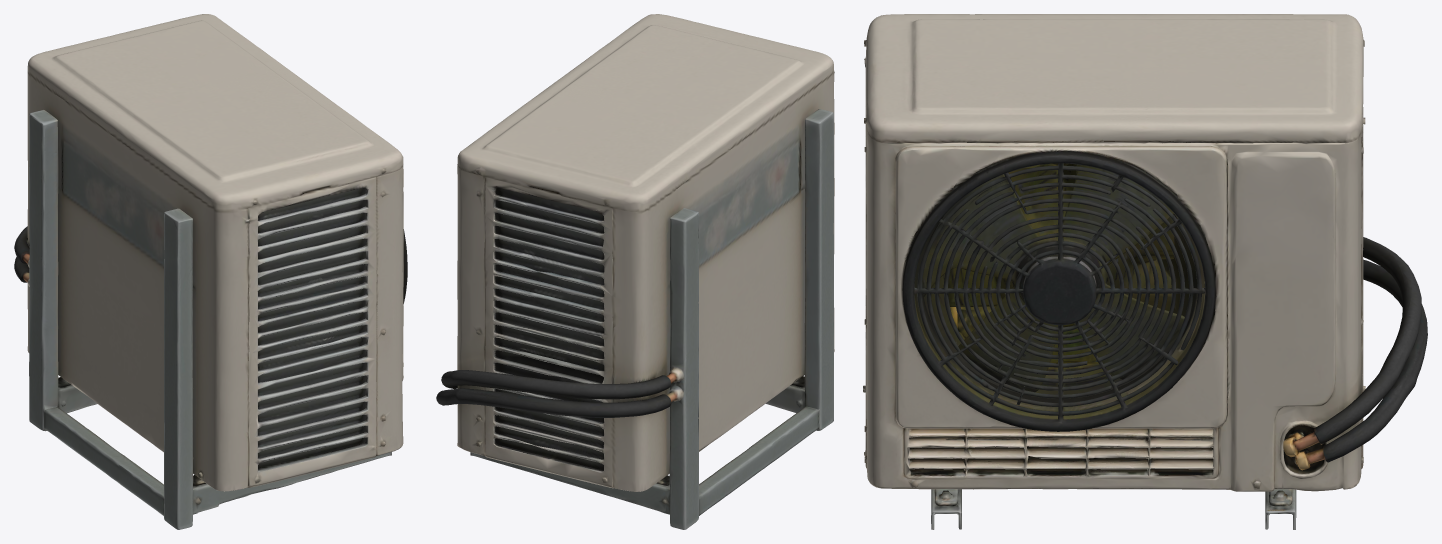
Rendered from acunit.glb.
3 views of the same model, side by side, from view 1: azimuth 30°, elevation 25°; view 2: azimuth 150°, elevation 25°; view 3: azimuth 270°, elevation 25° (orthographic). The views are drawn at different scales.
Parts seen in each view (by area): view 1: tripo_node_7f23abc9-f619-42bd-85ed-d74b16b5947b; view 2: tripo_node_7f23abc9-f619-42bd-85ed-d74b16b5947b; view 3: tripo_node_7f23abc9-f619-42bd-85ed-d74b16b5947b.
Boxes of the visible parts, <box> form: tripo_node_7f23abc9-f619-42bd-85ed-d74b16b5947b: <box>14,14,407,529</box>; tripo_node_7f23abc9-f619-42bd-85ed-d74b16b5947b: <box>436,14,834,529</box>; tripo_node_7f23abc9-f619-42bd-85ed-d74b16b5947b: <box>863,14,1427,529</box>.
Size of the model in its own units: 0.4134 by 0.6 by 0.7117.
Materials: 1 (1 with a texture image).
